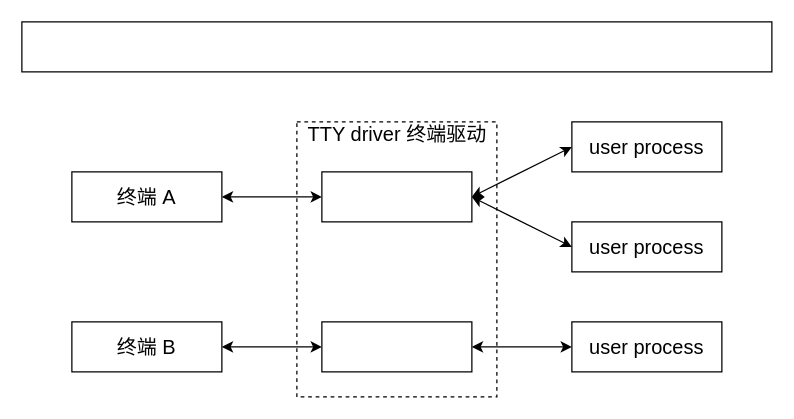
This 794x419 diagram has some shape labels left out. The shapes that lost their labels are listed below. From the top down, each one's centre as x and y in pixels, then its label:
point (396, 46): 多个终端
point (396, 196): tty1
point (396, 346): tty2
